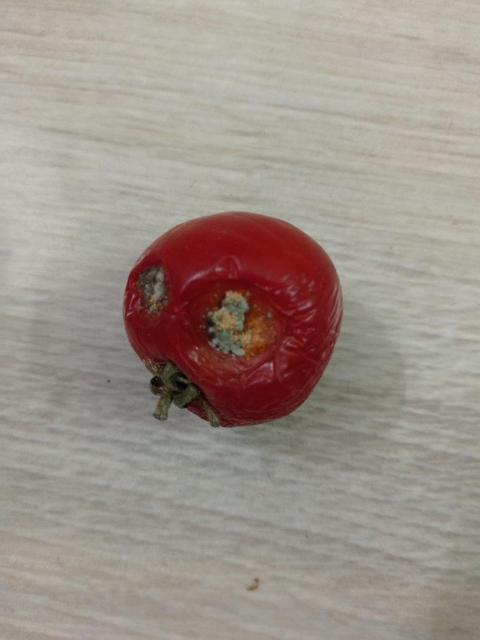defect: (119, 208, 344, 434)
